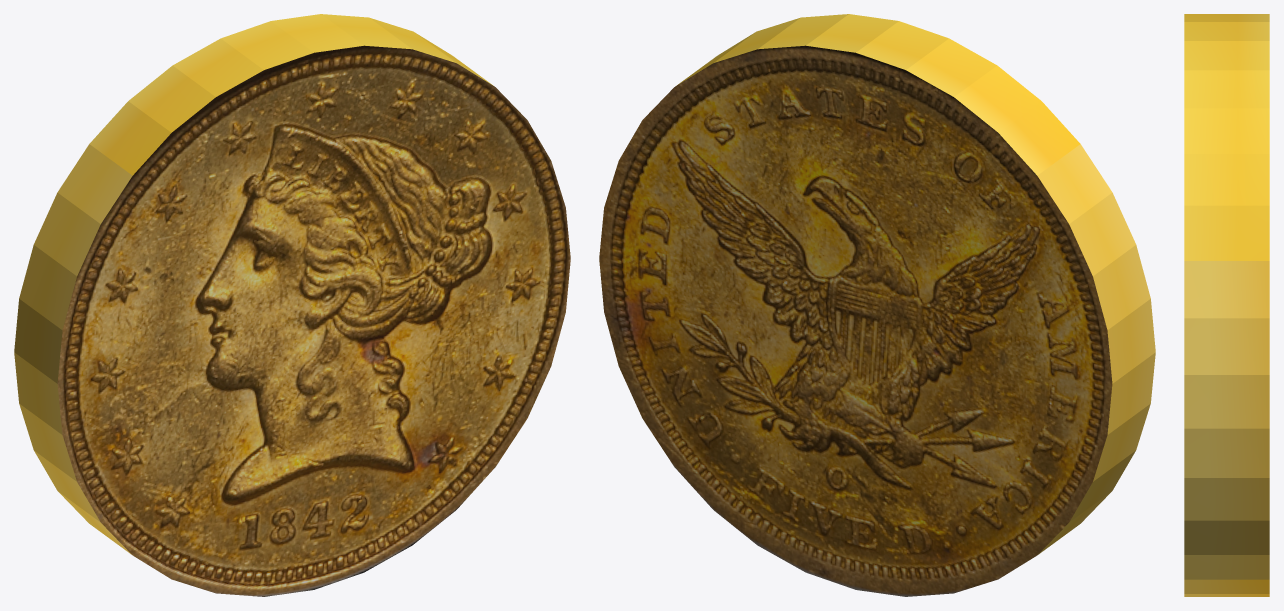
File: moneda.obj
3 views of the same model, side by side, from view 1: azimuth 30°, elevation 25°; view 2: azimuth 150°, elevation 25°; view 3: azimuth 270°, elevation 25° (orthographic).
Size of the model in its own units: 0.15 by 0.15 by 0.022.
